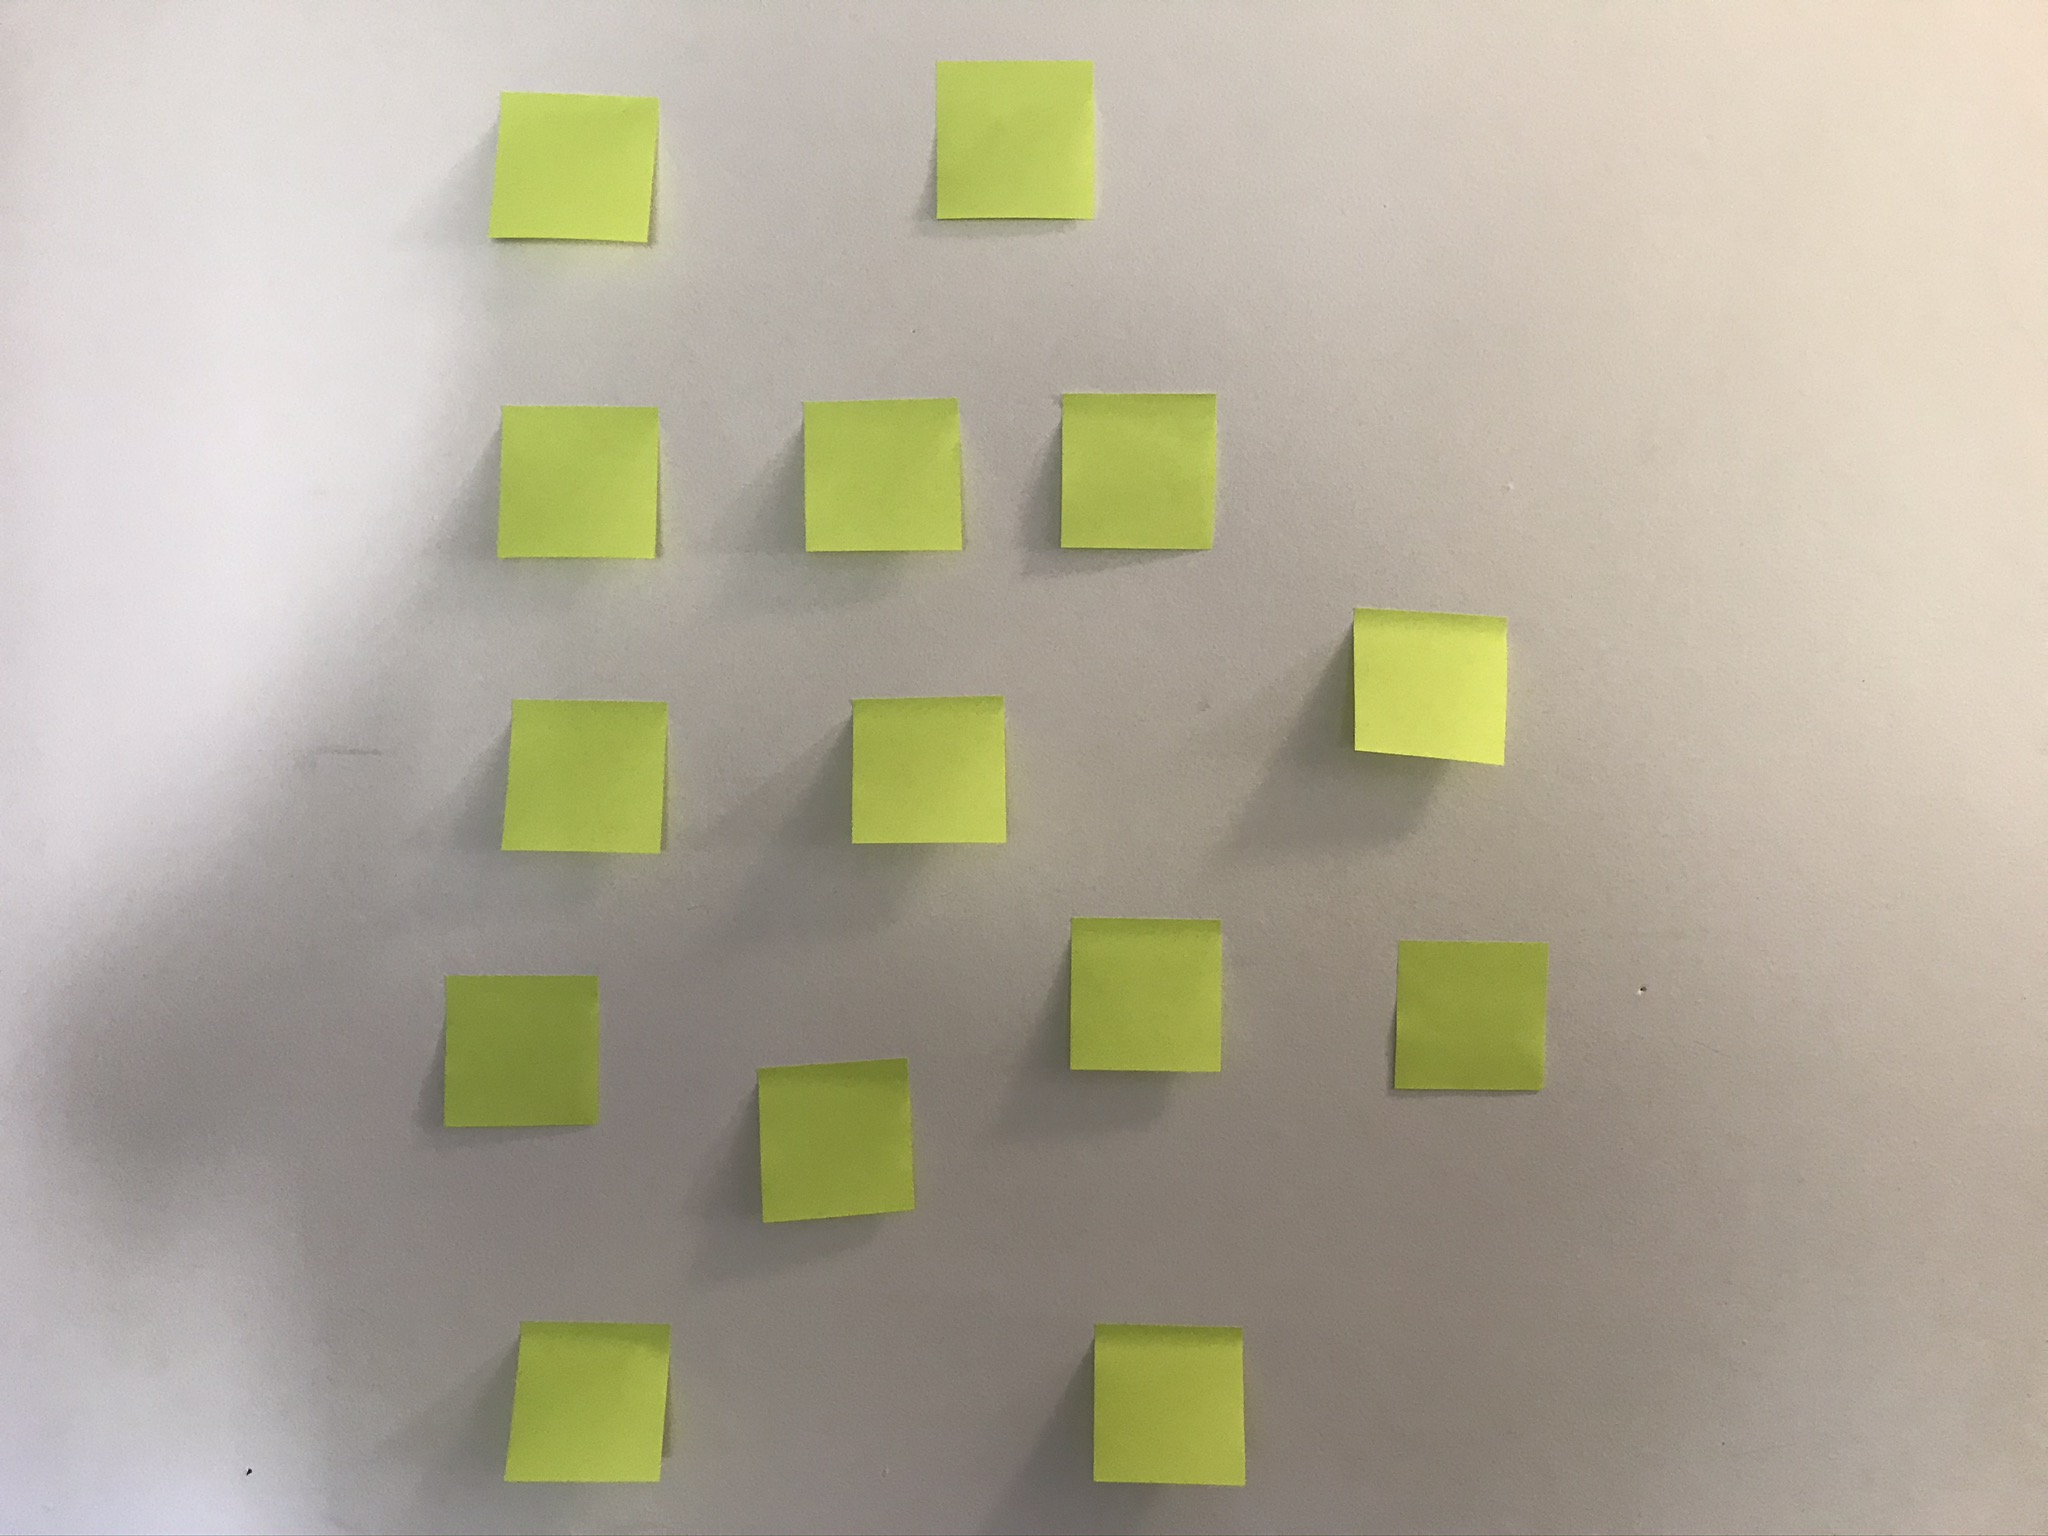sticky: (502, 1320, 669, 1484), (934, 56, 1098, 223), (498, 402, 663, 566), (1090, 1321, 1251, 1489), (485, 89, 661, 242), (801, 397, 968, 557), (755, 1057, 914, 1220), (1350, 605, 1509, 766), (1059, 390, 1218, 553), (502, 694, 664, 850), (1068, 916, 1226, 1075), (443, 970, 601, 1126), (850, 694, 1009, 842), (1392, 937, 1545, 1091)
